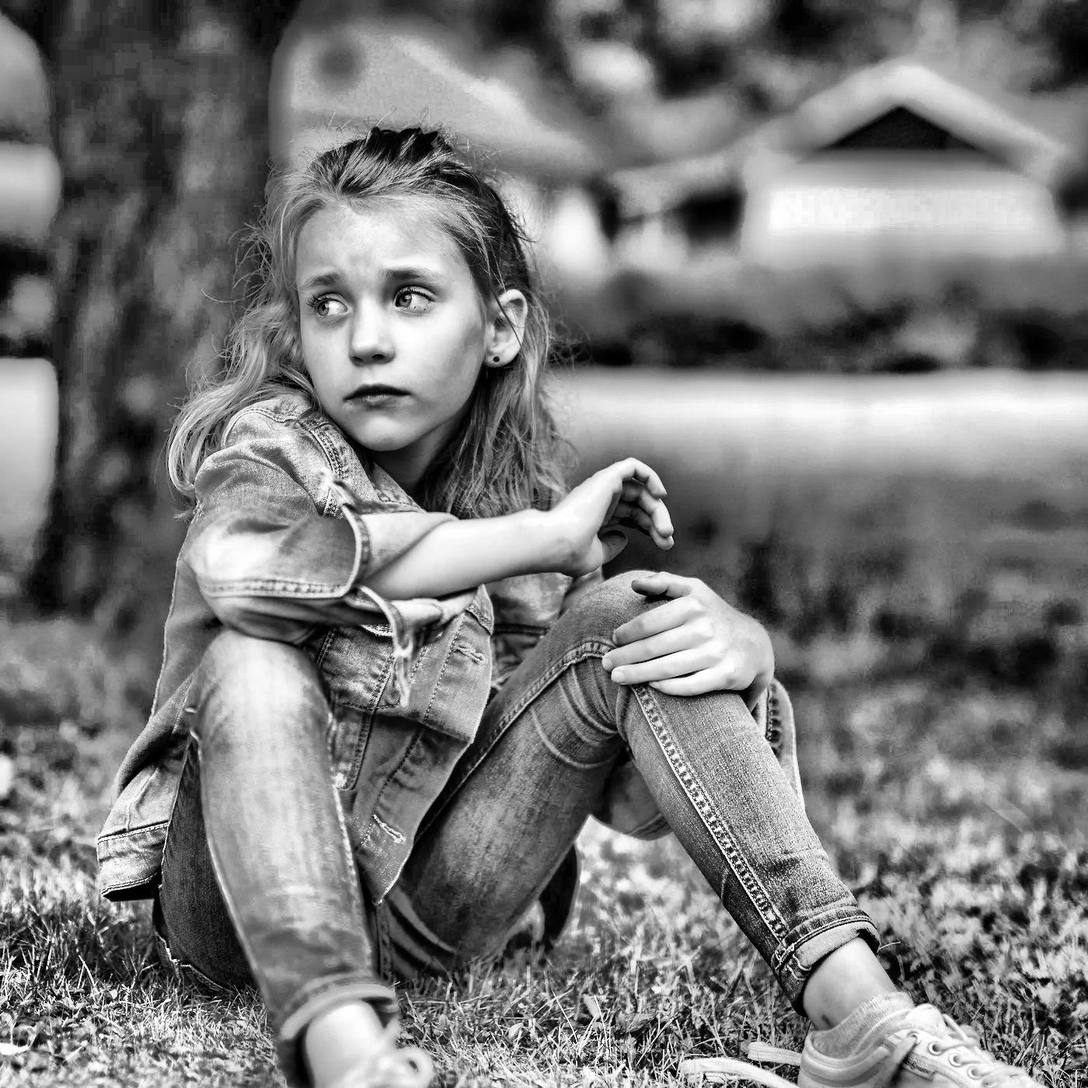sad: (247, 151, 554, 553)
